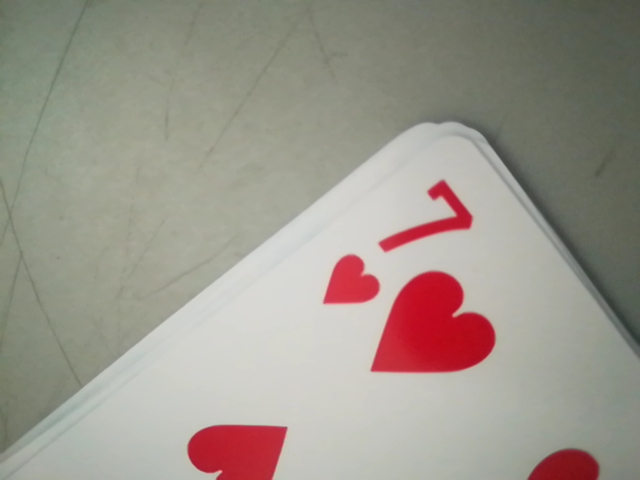hx 7: (333, 167, 488, 315)
